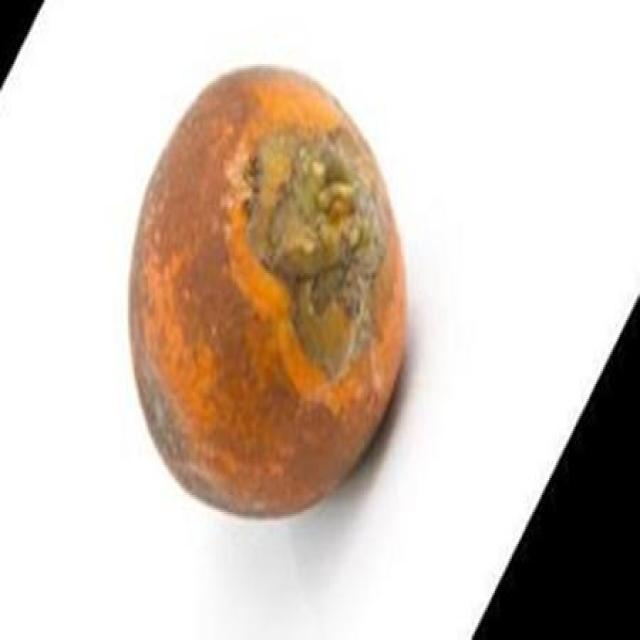good: (127, 70, 408, 521)
